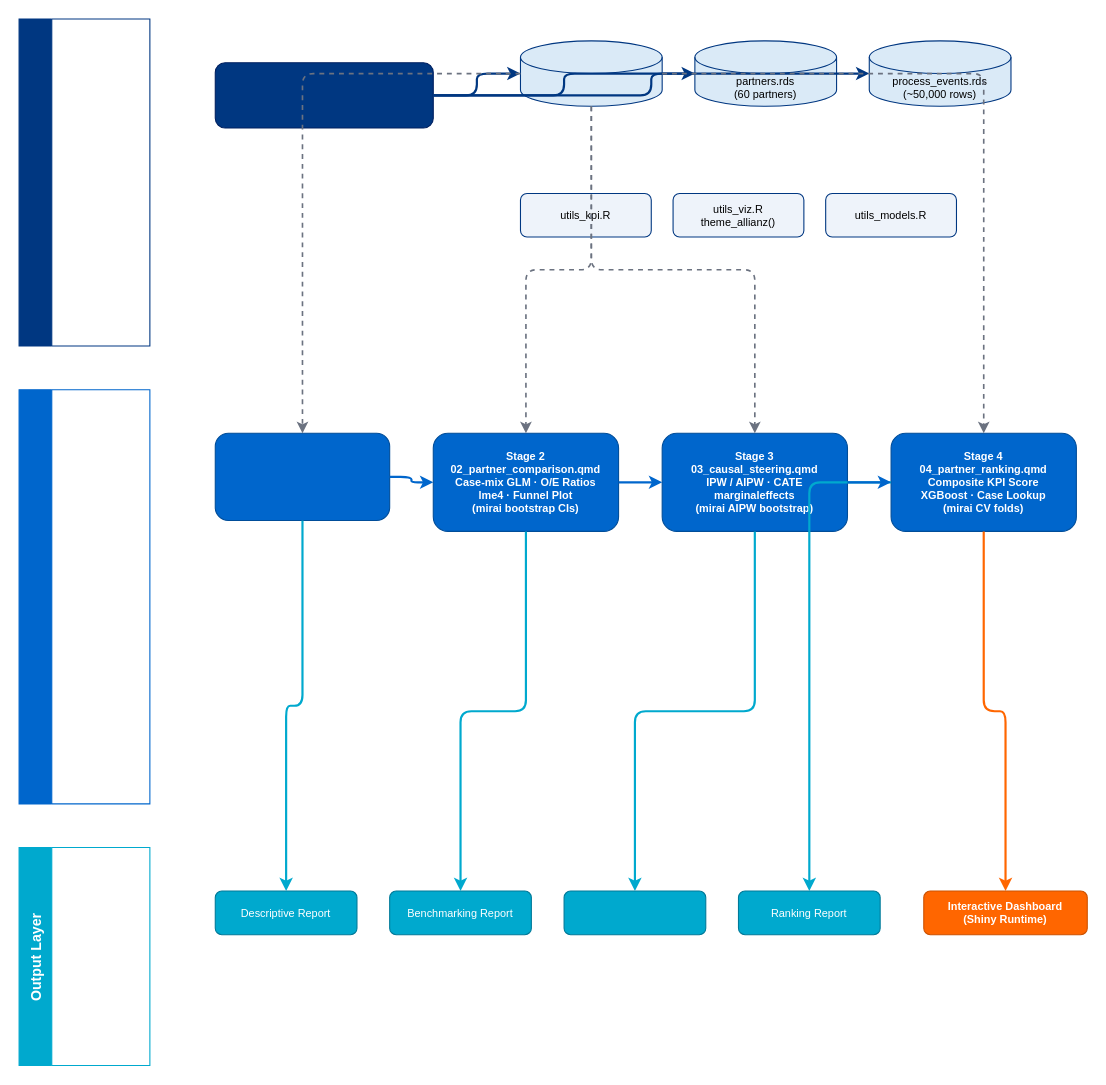
Some shapes in this 1106 by 1085 pixel diagram are drawn without their labels. Each missing label, with the box of its shape:
00_simulate_data.R (mirai · 4 workers): (214, 62, 433, 128)
Analysis Layer: (18, 389, 150, 804)
Causal Report: (563, 890, 706, 935)
claims.rds (10,000 rows): (519, 40, 662, 106)
Data Layer: (18, 18, 150, 346)
Stage 1 01_descriptive.qmd KPI Dashboard · EDA Network maps · Heatmaps: (214, 432, 390, 520)
